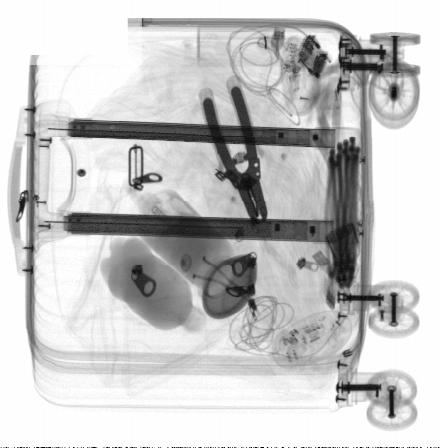Pliers: (202, 85, 269, 226)
